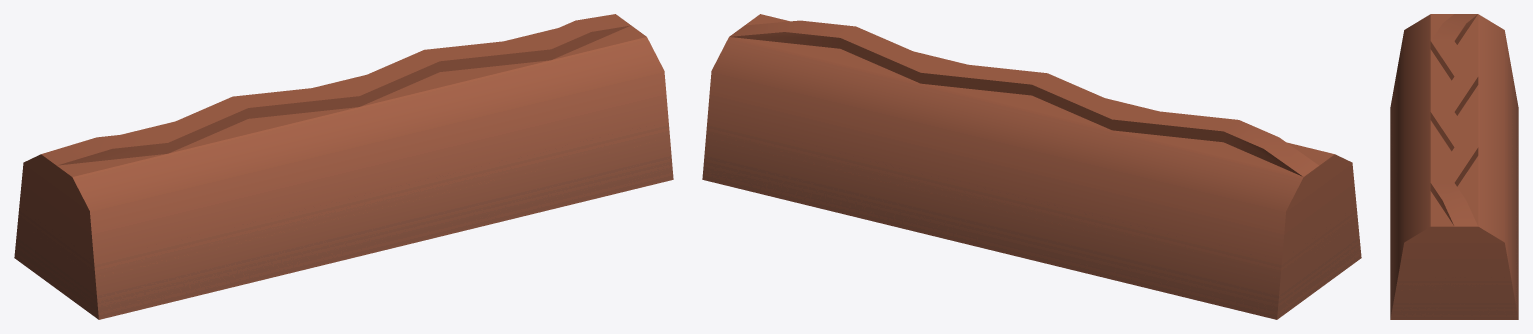
Rendered from food-candy-bar.glb.
The picture shows the model from 3 angles, left to right: view 1: azimuth 30°, elevation 25°; view 2: azimuth 150°, elevation 25°; view 3: azimuth 270°, elevation 25°; orthographic projection. The views are drawn at different scales.
Parts seen in each view (by area): view 1: candy-bar; view 2: candy-bar; view 3: candy-bar.
Part boxes in pixels (x1,y1,x2,y2): candy-bar: (14,14,673,319); candy-bar: (702,14,1361,319); candy-bar: (1390,14,1518,319).
Size of the model in its own units: 0.2924 by 0.0653 by 0.0745.
1 material, 1 textured.
